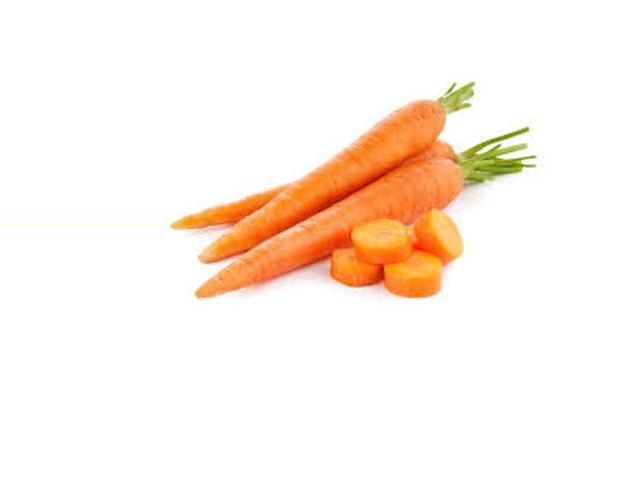carrot: (193, 156, 477, 306)
